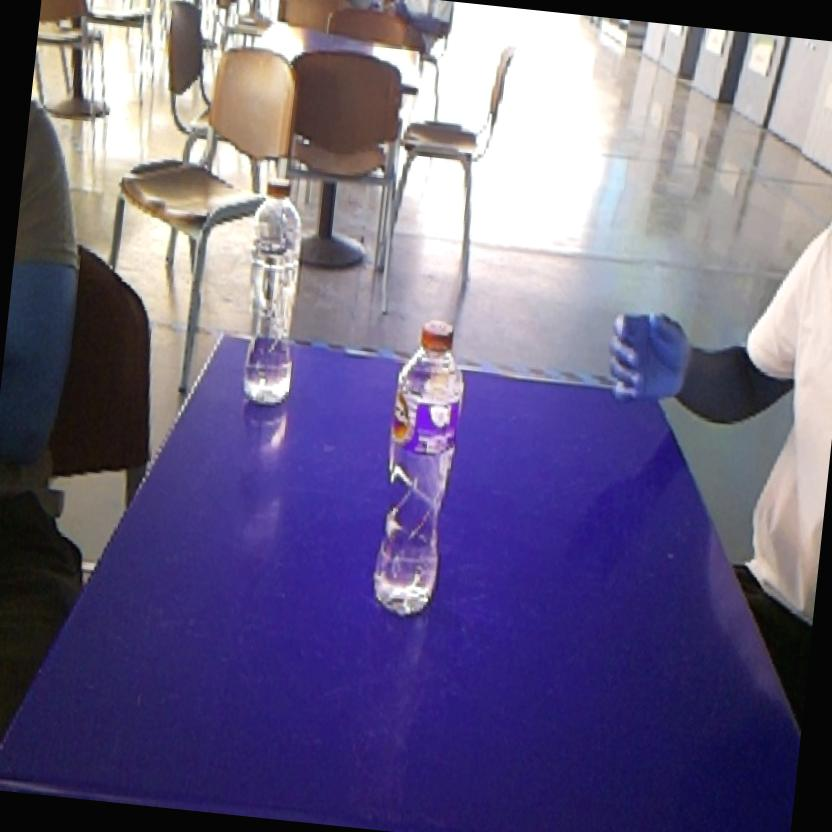good: (359, 308, 478, 634)
no_label: (224, 174, 322, 418)
